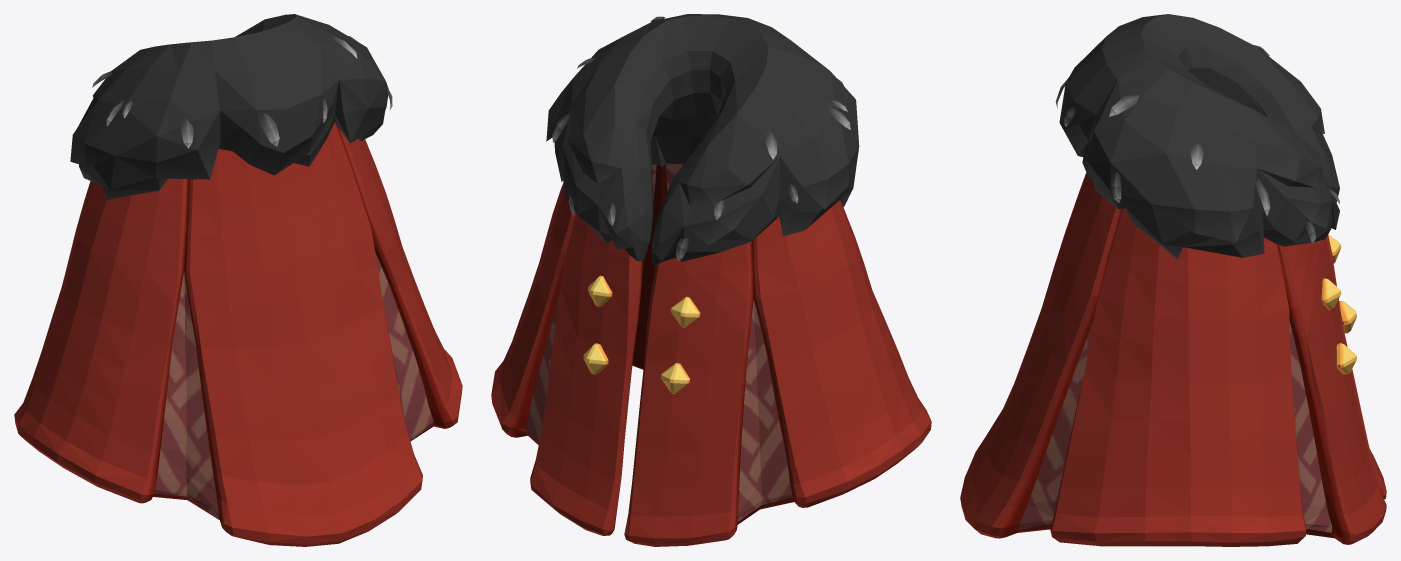
Rendered from CharSkyKid_Wing_FeastAttireCape.glb.
The picture shows the model from 3 angles, left to right: view 1: azimuth 30°, elevation 25°; view 2: azimuth 150°, elevation 25°; view 3: azimuth 270°, elevation 25°; orthographic projection. The views are drawn at different scales.
Parts seen in each view (by area): view 1: CharSkyKid_Wing_FeastAttireCape; view 2: CharSkyKid_Wing_FeastAttireCape; view 3: CharSkyKid_Wing_FeastAttireCape.
Part boxes in pixels (x1,y1,x2,y2): CharSkyKid_Wing_FeastAttireCape: (14,14,462,546); CharSkyKid_Wing_FeastAttireCape: (491,14,931,546); CharSkyKid_Wing_FeastAttireCape: (960,14,1386,546).
Bounding box in the file's own units: 6.43 × 6.94 × 5.61.
1 material, 1 textured.
